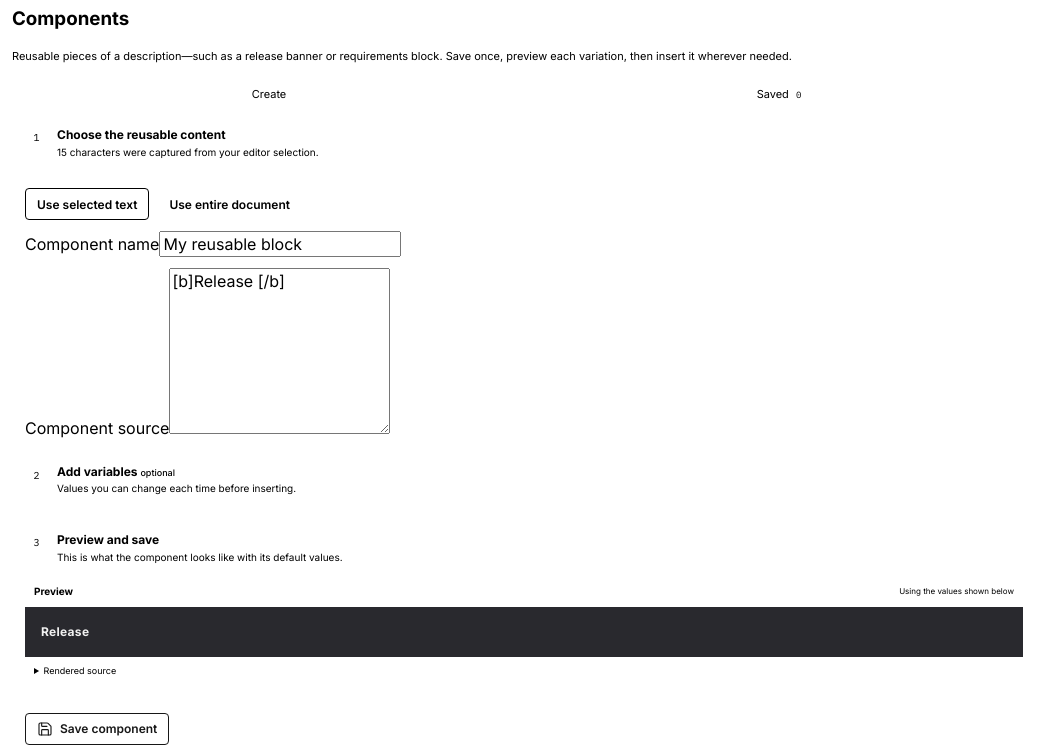
Test case: ComponentsPanel › adds and inserts a variable token with a live default-value preview
Click the text "Add variables optional". click: (116, 472)
box: x1=57 y1=464 x2=175 y2=479
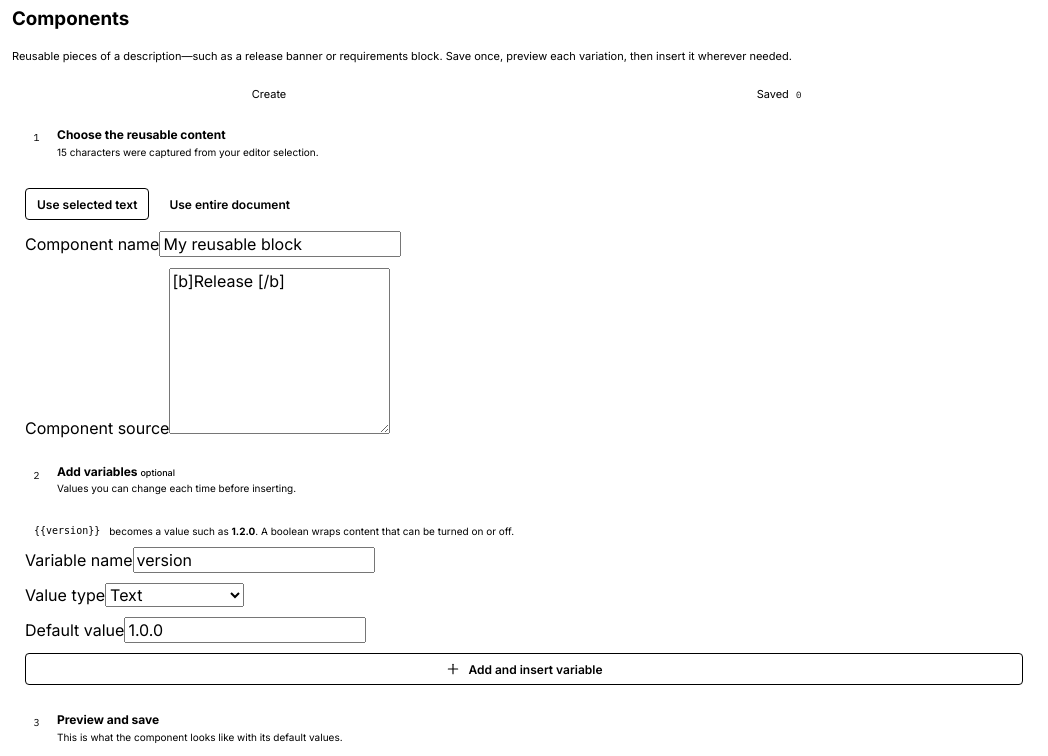
Click the button "Add and insert variable". click: (524, 669)
box: x1=25 y1=653 x2=1023 y2=685
(page scrolled)
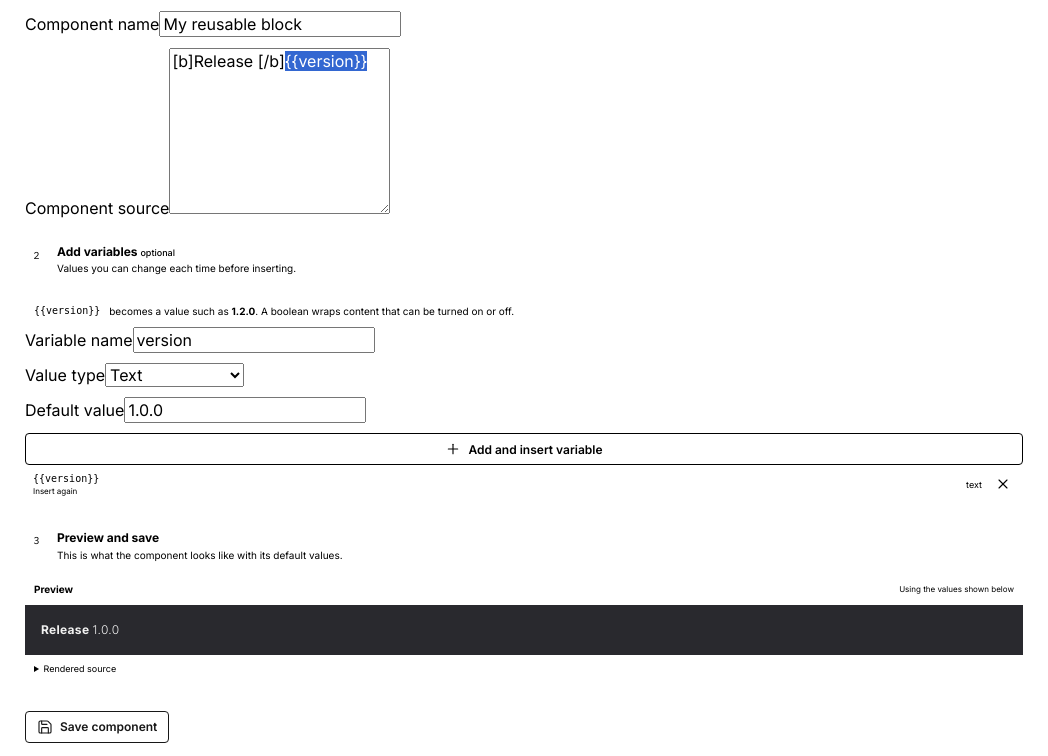
Expected: the text box labelled "Component source" holds "[b]Release [/b]{{version}}", x1=169 y1=48 x2=390 y2=214
Expected: the text "1.0.0" is shown, x1=92 y1=622 x2=119 y2=637
